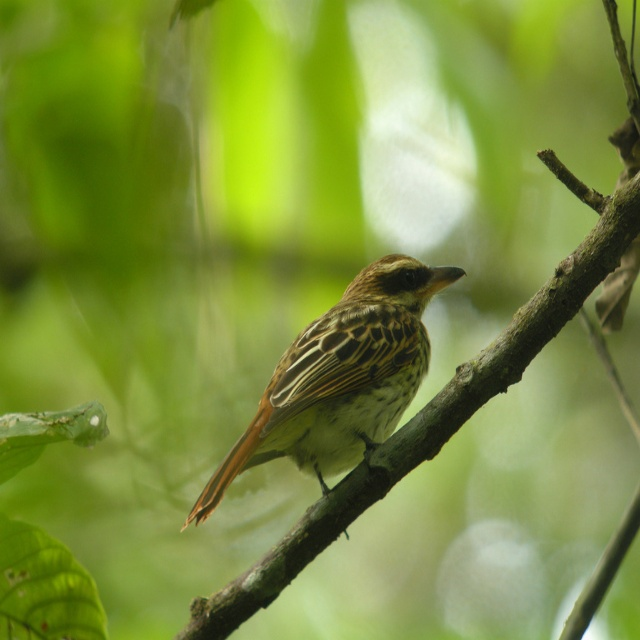Sparrow: (180, 254, 467, 538)
